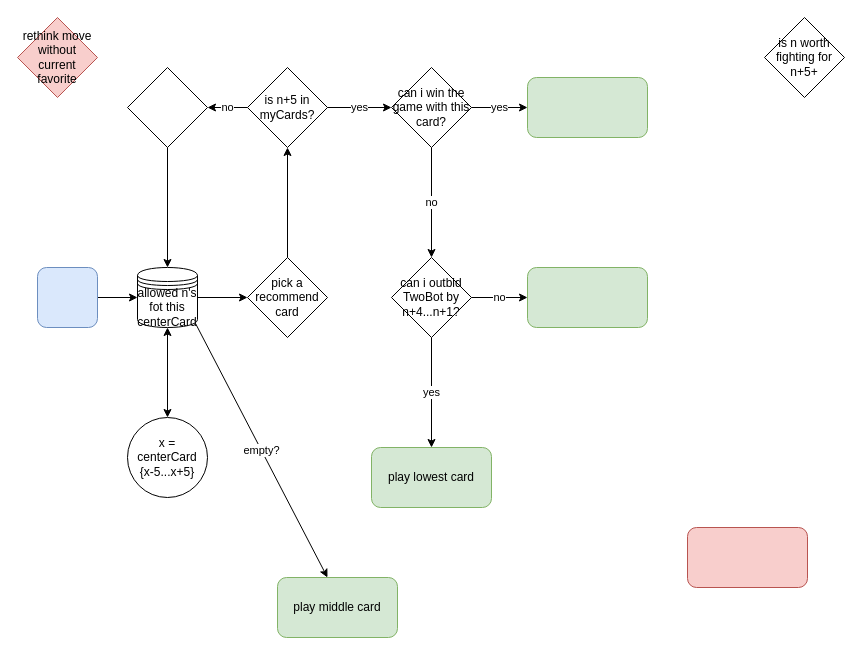
The diagram is 862 pixels wide and 655 high, and some of its shapes have lost their labels. Each missing label, with the box of its shape:
its my turn: (36, 266, 98, 328)
play default card: (526, 266, 648, 328)
play highest card: (526, 76, 648, 138)
test me with all 15^2 possible inputs 15 centerCards + 15 myCards: (686, 526, 808, 588)
try again with n--: (126, 66, 208, 148)
